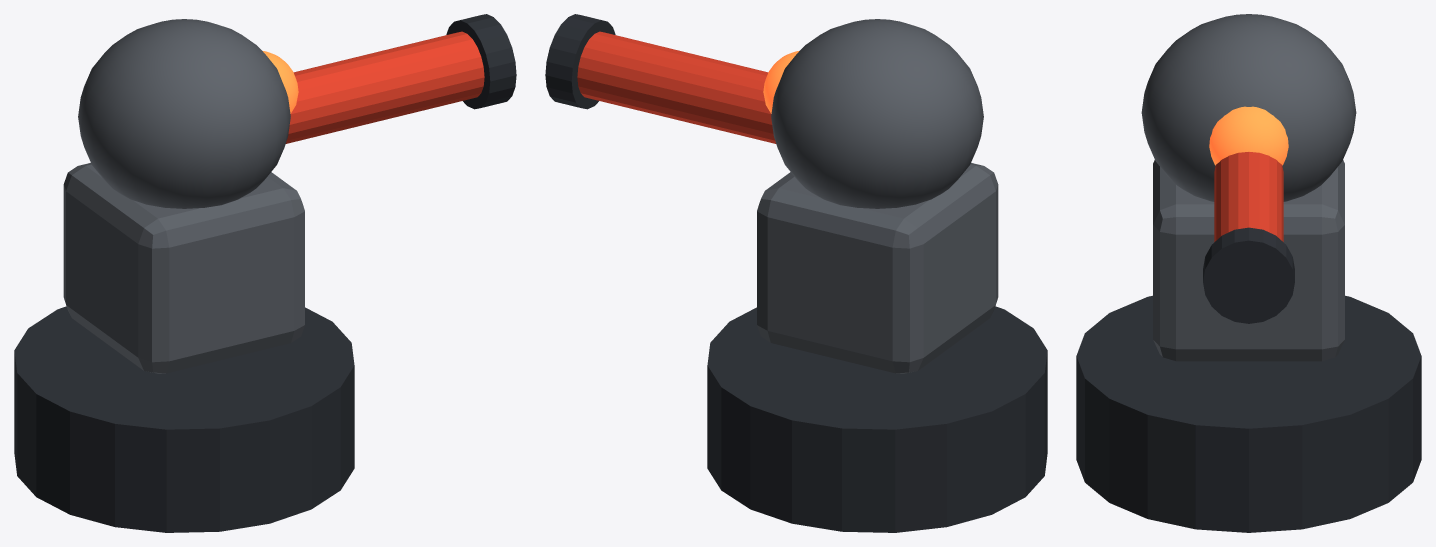
File: shooter.glb
The picture shows the model from 3 angles, left to right: view 1: azimuth 30°, elevation 25°; view 2: azimuth 150°, elevation 25°; view 3: azimuth 270°, elevation 25°; orthographic projection.
Visible parts, largest first — view 1: Cube, Cylinder, Cylinder.001, Sphere.001; view 2: Cube, Cylinder, Cylinder.001, Sphere.001; view 3: Cylinder, Cube, Cylinder.001, Sphere.001.
Part boxes in pixels (x1=…): Cube: x1=63, y1=19, x2=304, y2=373; Cylinder: x1=14, y1=14, x2=516, y2=532; Cylinder.001: x1=286, y1=31, x2=484, y2=143; Sphere.001: x1=263, y1=51, x2=298, y2=113; Cube: x1=757, y1=19, x2=998, y2=373; Cylinder: x1=545, y1=14, x2=1047, y2=532; Cylinder.001: x1=577, y1=31, x2=775, y2=143; Sphere.001: x1=763, y1=51, x2=798, y2=113; Cylinder: x1=1076, y1=227, x2=1421, y2=532; Cube: x1=1141, y1=14, x2=1356, y2=361; Cylinder.001: x1=1214, y1=152, x2=1283, y2=241; Sphere.001: x1=1209, y1=106, x2=1288, y2=165.
Bounding box in the file's own units: 1.39 × 1.25 × 0.9.
